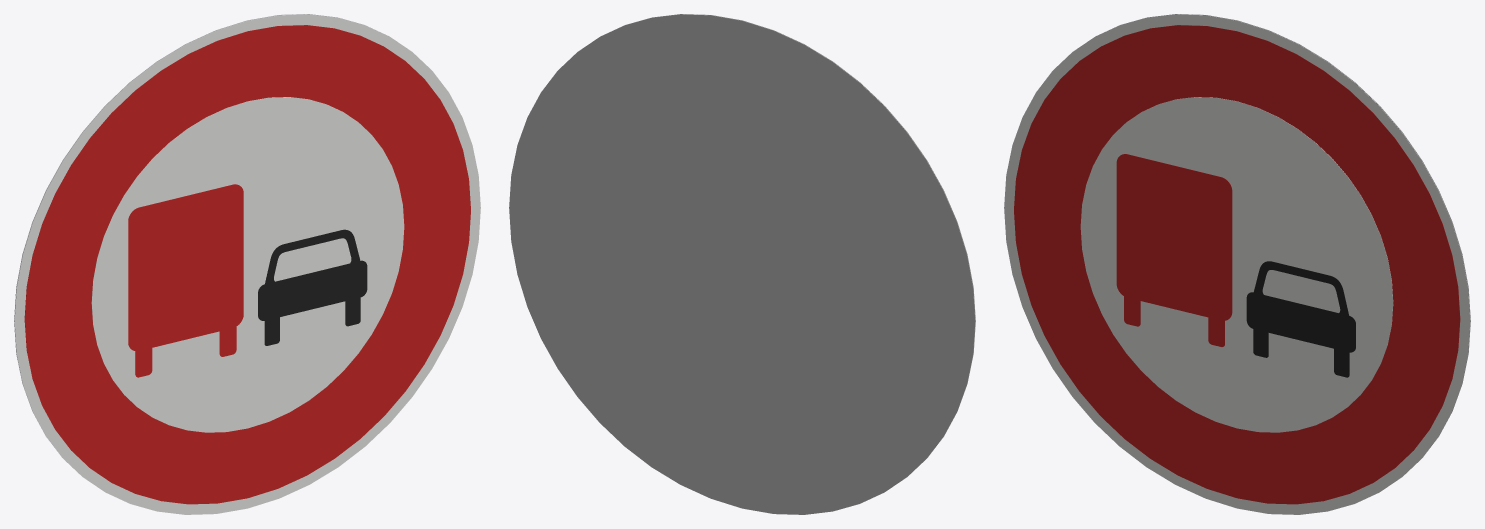
3 views of the same model, side by side, from view 1: azimuth 30°, elevation 25°; view 2: azimuth 150°, elevation 25°; view 3: azimuth 330°, elevation 25° (orthographic).
Visible parts, largest first — view 1: B3a_p01, B3a_p02, B3a_p04, B3a_p00, B3a_p03, B3a_dos; view 2: B3a_dos, B3a_p00; view 3: B3a_p01, B3a_p02, B3a_p04, B3a_p00, B3a_p03, B3a_dos.
Part boxes in pixels (<box>): B3a_p01: <box>24,25,470,504</box>; B3a_p02: <box>91,97,404,432</box>; B3a_p04: <box>128,184,243,377</box>; B3a_p00: <box>14,14,480,514</box>; B3a_p03: <box>258,229,367,345</box>; B3a_dos: <box>14,14,385,473</box>; B3a_dos: <box>509,14,975,514</box>; B3a_p00: <box>604,14,975,473</box>; B3a_p01: <box>1014,25,1460,504</box>; B3a_p02: <box>1080,97,1393,432</box>; B3a_p04: <box>1116,154,1232,346</box>; B3a_p00: <box>1004,14,1470,514</box>; B3a_p03: <box>1246,261,1355,377</box>; B3a_dos: <box>1099,14,1470,473</box>.
Bounding box in the file's own units: 0.85 × 0.8498 × 0.0035.
